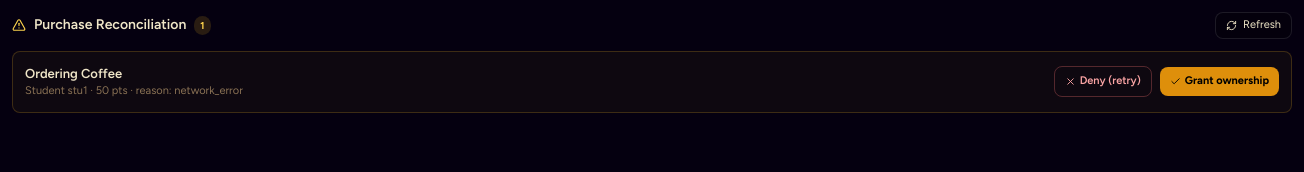
Test case: a resolution failure shows an inline error instead of crashing
Click the button with test id "reconcile-grant-stu1::vid_1" at (1219,82), box left=1160, top=67, right=1279, bottom=96
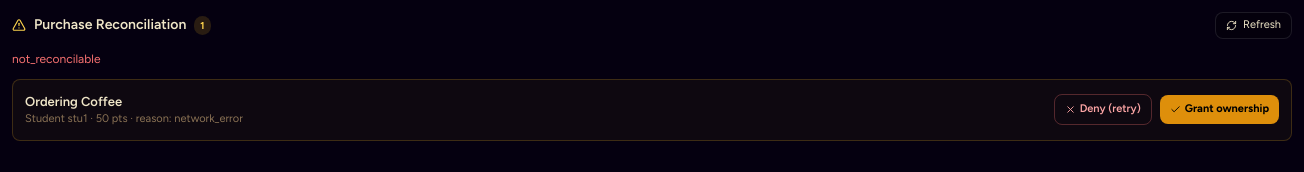
Now the text with test id "reconcile-error" reads "not_reconcilable", box left=12, top=52, right=100, bottom=66
